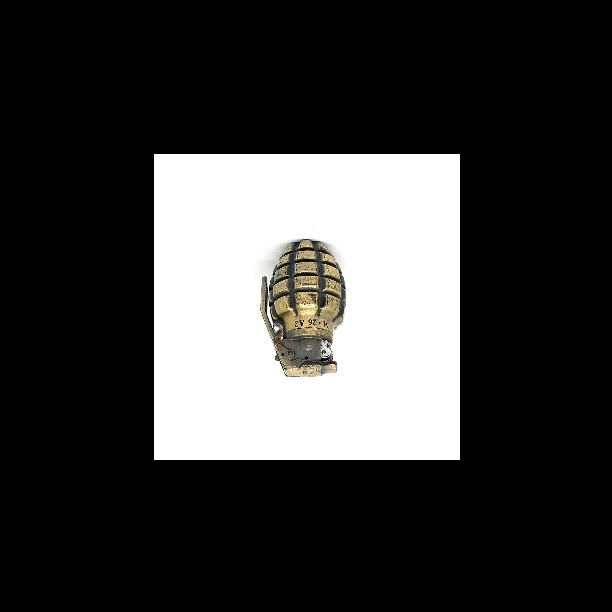e1: (255, 234, 345, 378)
